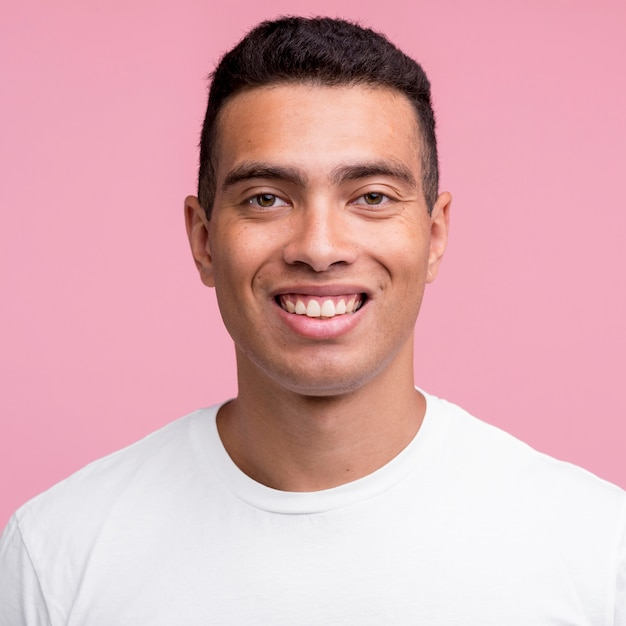young: (190, 17, 463, 430)
